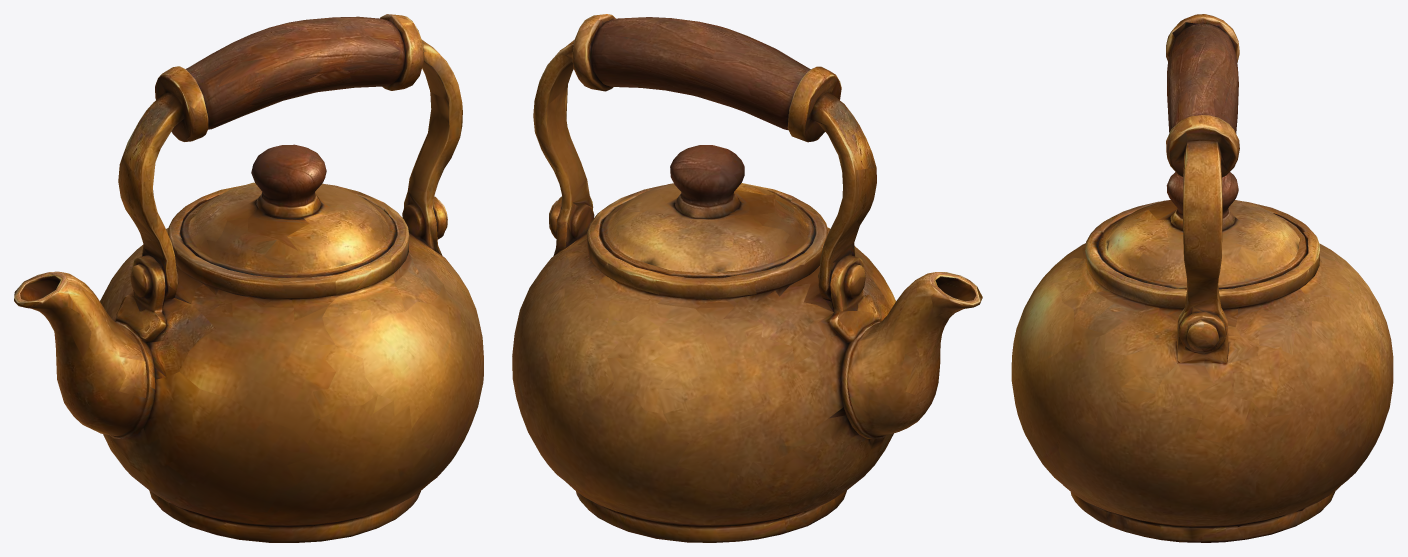
The model's file is kettle.glb.
The picture shows the model from 3 angles, left to right: view 1: azimuth 30°, elevation 25°; view 2: azimuth 150°, elevation 25°; view 3: azimuth 270°, elevation 25°; orthographic projection. The views are drawn at different scales.
Visible parts, largest first — view 1: tripo_node_d4cf645a-84d0-44d1-9cf9-e69c4e6cdaab; view 2: tripo_node_d4cf645a-84d0-44d1-9cf9-e69c4e6cdaab; view 3: tripo_node_d4cf645a-84d0-44d1-9cf9-e69c4e6cdaab.
Boxes of the visible parts, left/top/right/bottom form: tripo_node_d4cf645a-84d0-44d1-9cf9-e69c4e6cdaab: left=14, top=14, right=483, bottom=542; tripo_node_d4cf645a-84d0-44d1-9cf9-e69c4e6cdaab: left=512, top=14, right=982, bottom=542; tripo_node_d4cf645a-84d0-44d1-9cf9-e69c4e6cdaab: left=1011, top=14, right=1393, bottom=542.
Size of the model in its own units: 0.3004 by 0.3 by 0.2345.
1 material, 1 textured.
